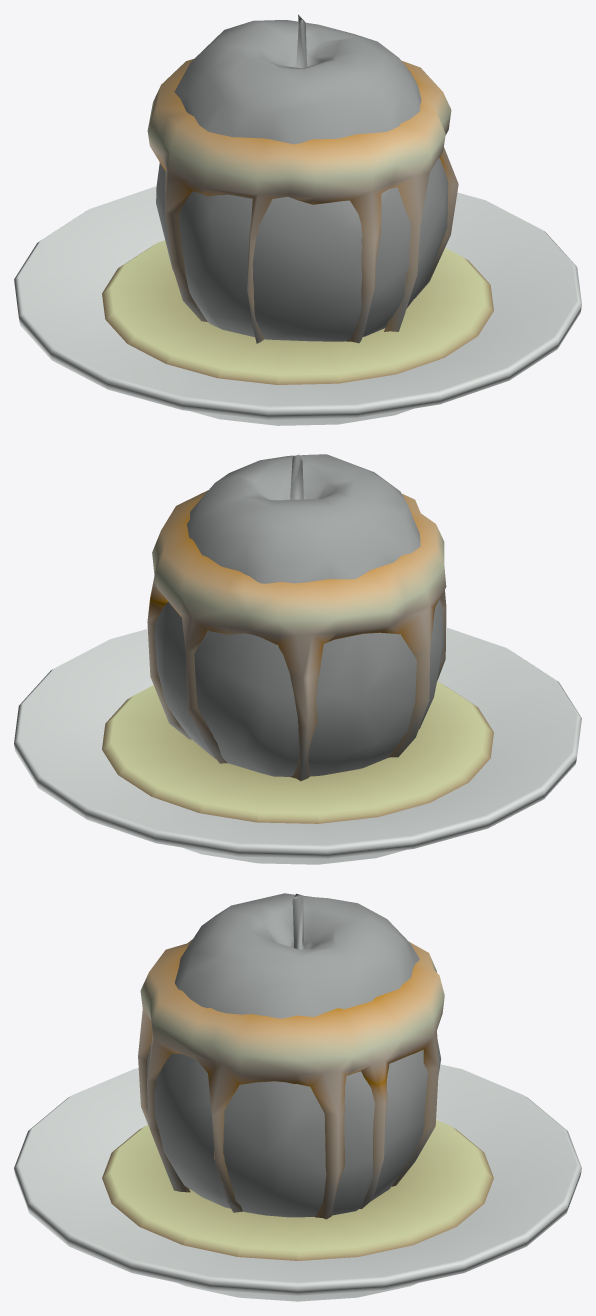
3 renders of one model, top to bottom at view 1: azimuth 30°, elevation 25°; view 2: azimuth 150°, elevation 25°; view 3: azimuth 270°, elevation 25°, orthographic.
Visible parts, largest first — view 1: G:\FFXIV-MapTools\exports\y6f3\bg\ex5\02_ykt_y6\fld\y6f3\bgp (×4); view 2: G:\FFXIV-MapTools\exports\y6f3\bg\ex5\02_ykt_y6\fld\y6f3\bgp (×4); view 3: G:\FFXIV-MapTools\exports\y6f3\bg\ex5\02_ykt_y6\fld\y6f3\bgp (×4).
Part boxes in pixels (bbox=[...]): G:\FFXIV-MapTools\exports\y6f3\bg\ex5\02_ykt_y6\fld\y6f3\bgp (×4): bbox=[14, 14, 581, 425]; G:\FFXIV-MapTools\exports\y6f3\bg\ex5\02_ykt_y6\fld\y6f3\bgp (×4): bbox=[14, 454, 581, 864]; G:\FFXIV-MapTools\exports\y6f3\bg\ex5\02_ykt_y6\fld\y6f3\bgp (×4): bbox=[14, 893, 581, 1301].
Bounding box in the file's own units: 0.4949 × 0.3141 × 0.4949.
